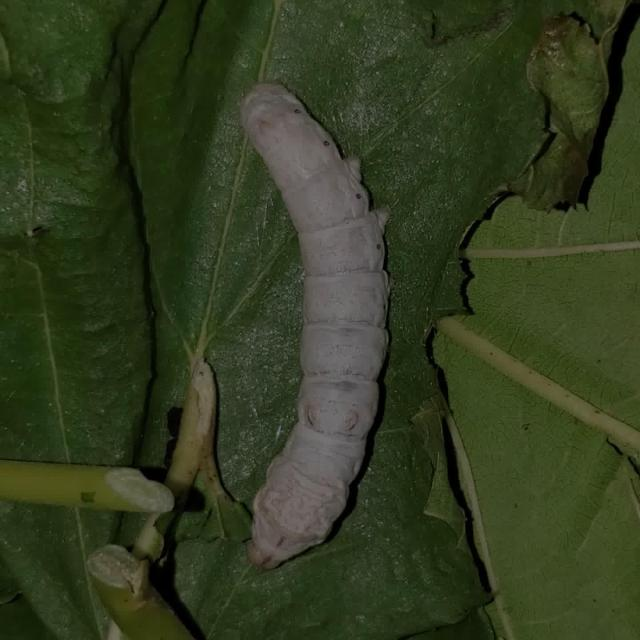Healthy: (204, 70, 402, 579)
